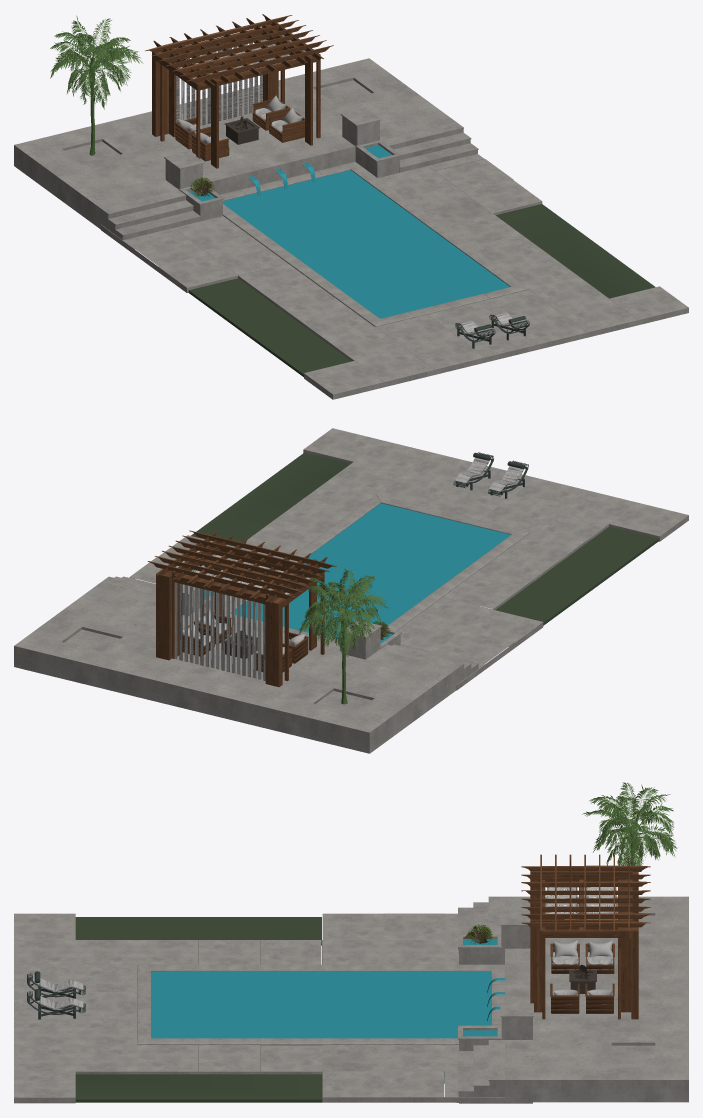
Rendered from pool-18.mobile.glb.
3 renders of one model, top to bottom at view 1: azimuth 30°, elevation 25°; view 2: azimuth 150°, elevation 25°; view 3: azimuth 270°, elevation 25°, orthographic. The views are drawn at different scales.
Visible parts, largest first — view 1: Pool | Limestone terrace, Pool | Pool water, Pool | Warm timber pergola, Pool | Planting beds, Pool | Palm canopy, Pool | Ivory outdoor upholstery, Pool | Graphite furniture frames, Pool | Fire bowl; view 2: Pool | Limestone terrace, Pool | Pool water, Pool | Warm timber pergola, Pool | Planting beds, Pool | Ivory outdoor upholstery, Pool | Palm canopy, Pool | Graphite furniture frames; view 3: Pool | Limestone terrace, Pool | Pool water, Pool | Warm timber pergola, Pool | Planting beds, Pool | Palm canopy, Pool | Ivory outdoor upholstery, Pool | Graphite furniture frames, Pool | Fire bowl.
Boxes of the visible parts, <box> form: Pool | Limestone terrace: <box>14,58,688,399</box>; Pool | Pool water: <box>188,145,509,318</box>; Pool | Warm timber pergola: <box>145,14,333,168</box>; Pool | Planting beds: <box>188,204,655,376</box>; Pool | Palm canopy: <box>50,15,143,155</box>; Pool | Ivory outdoor upholstery: <box>176,35,526,335</box>; Pool | Graphite furniture frames: <box>455,316,529,348</box>; Pool | Fire bowl: <box>224,116,259,144</box>; Pool | Limestone terrace: <box>14,428,688,753</box>; Pool | Pool water: <box>204,503,510,643</box>; Pool | Warm timber pergola: <box>147,530,336,686</box>; Pool | Planting beds: <box>191,452,658,625</box>; Pool | Ivory outdoor upholstery: <box>174,456,525,680</box>; Pool | Palm canopy: <box>298,569,388,704</box>; Pool | Graphite furniture frames: <box>453,452,528,498</box>; Pool | Limestone terrace: <box>14,896,688,1103</box>; Pool | Pool water: <box>151,939,504,1038</box>; Pool | Warm timber pergola: <box>521,854,650,1019</box>; Pool | Planting beds: <box>75,917,322,1102</box>; Pool | Palm canopy: <box>582,782,677,865</box>; Pool | Ivory outdoor upholstery: <box>32,887,616,1010</box>; Pool | Graphite furniture frames: <box>27,971,85,1019</box>; Pool | Fire bowl: <box>569,964,596,993</box>.
Bounding box in the file's own units: 2.32 × 1.14 × 3.6.
Materials: 12 (4 with a texture image).
